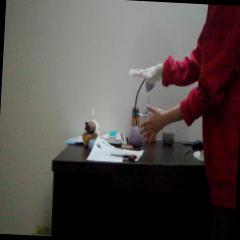gloved: (128, 63, 163, 83)
not-gloved: (138, 105, 166, 145)
